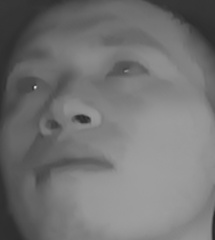eye: (103, 54, 150, 85), (10, 71, 54, 98)
mouth: (30, 143, 115, 195)
